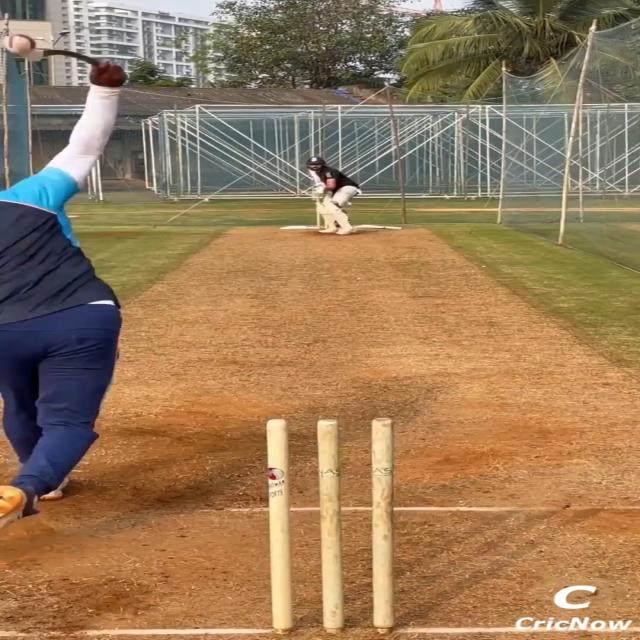stump: (266, 417, 397, 640)
